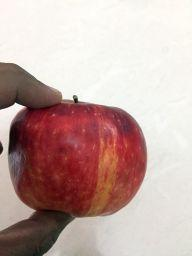Apple Semirotten: (7, 88, 150, 222)
